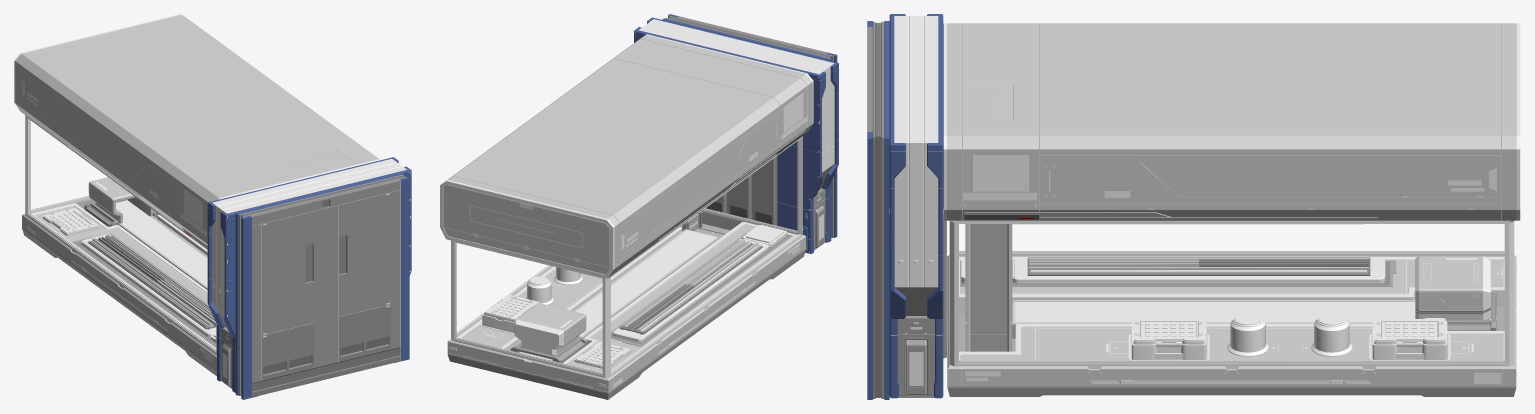
3 renders of one model, left to right at view 1: azimuth 30°, elevation 25°; view 2: azimuth 150°, elevation 25°; view 3: azimuth 270°, elevation 25°, orthographic. The views are drawn at different scales.
Visible parts, largest first — view 1: SM_H_Building_FutureTech_AutomaticWorkshop_01; view 2: SM_H_Building_FutureTech_AutomaticWorkshop_01; view 3: SM_H_Building_FutureTech_AutomaticWorkshop_01.
Part boxes in pixels (<box>): SM_H_Building_FutureTech_AutomaticWorkshop_01: <box>14,14,411,399</box>; SM_H_Building_FutureTech_AutomaticWorkshop_01: <box>440,14,838,399</box>; SM_H_Building_FutureTech_AutomaticWorkshop_01: <box>867,14,1520,399</box>.
Size of the model in its own units: 535 by 254 by 237.
